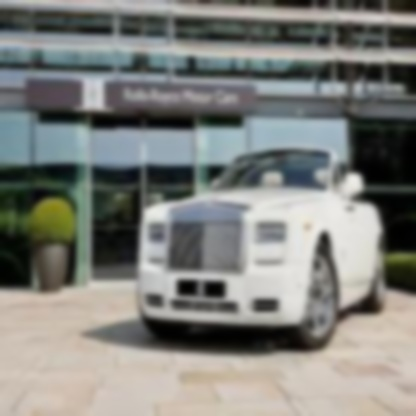Vehicle: (139, 146, 387, 359)
